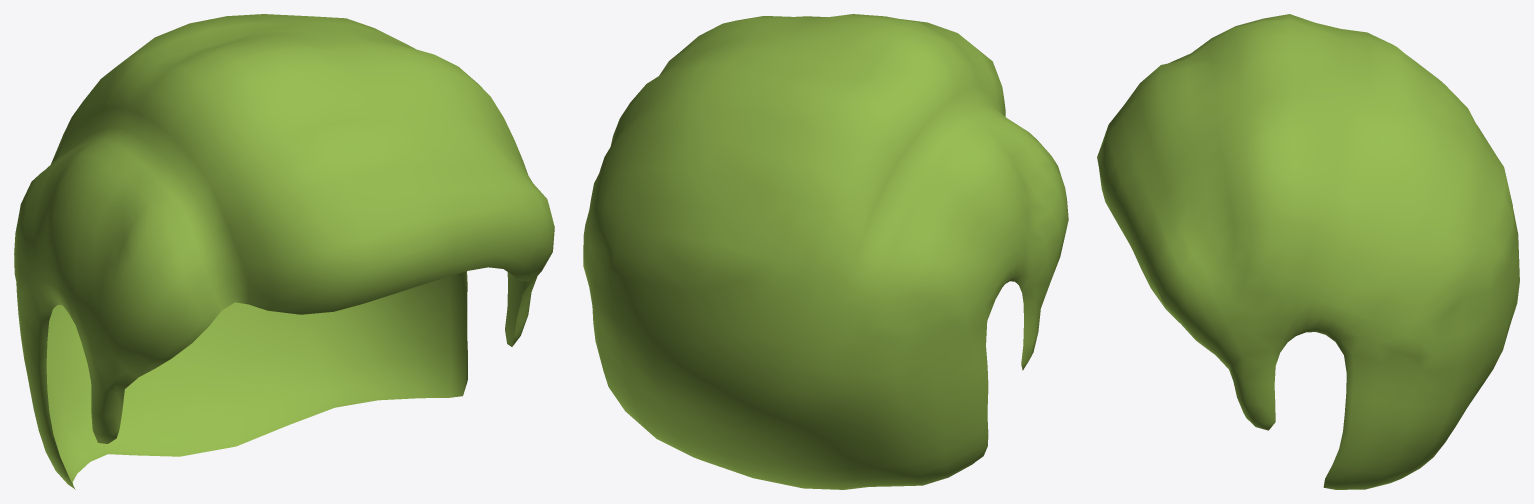
The model's file is hair9.glb.
3 renders of one model, left to right at view 1: azimuth 30°, elevation 25°; view 2: azimuth 150°, elevation 25°; view 3: azimuth 270°, elevation 25°, orthographic. The views are drawn at different scales.
Visible parts, largest first — view 1: Hair9; view 2: Hair9; view 3: Hair9.
Boxes of the visible parts, x1,y1,x2,y2 form: Hair9: (14, 14, 554, 489); Hair9: (583, 14, 1068, 489); Hair9: (1097, 14, 1519, 489).
Bounding box in the file's own units: 0.0086 × 0.00858 × 0.00835.
